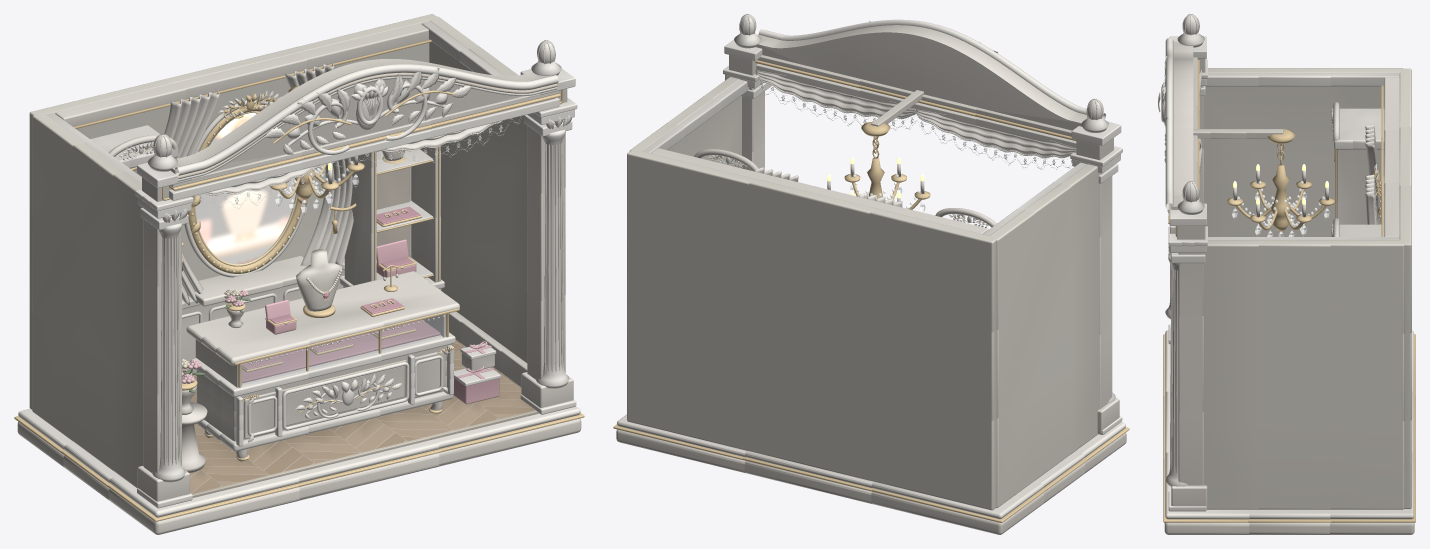
File: Boutique-web.glb
3 views of the same model, side by side, from view 1: azimuth 30°, elevation 25°; view 2: azimuth 150°, elevation 25°; view 3: azimuth 270°, elevation 25° (orthographic). The views are drawn at different scales.
Visible parts, largest first — view 1: Boutique_01, Boutique_06, Boutique_02, Boutique_04, Boutique_08, Boutique_03, Boutique_16, Boutique_10, Boutique_14, Boutique_07, Boutique_oak parquet 5, Boutique_oak parquet 6 (+8 smaller); view 2: Boutique_06, Boutique_01, Boutique_02, Boutique_08, Boutique_04, Boutique_09; view 3: Boutique_06, Boutique_01, Boutique_02, Boutique_04, Boutique_08, Boutique_15.
Part boxes in pixels (x1=…): Boutique_01: x1=17, y1=23, x2=581, y2=534; Boutique_06: x1=29, y1=14, x2=527, y2=487; Boutique_02: x1=18, y1=21, x2=580, y2=517; Boutique_04: x1=14, y1=39, x2=584, y2=521; Boutique_08: x1=164, y1=62, x2=498, y2=305; Boutique_03: x1=133, y1=73, x2=557, y2=497; Boutique_16: x1=195, y1=112, x2=295, y2=264; Boutique_10: x1=242, y1=206, x2=440, y2=383; Boutique_14: x1=242, y1=315, x2=443, y2=385; Boutique_07: x1=265, y1=239, x2=499, y2=404; Boutique_oak parquet 5: x1=190, y1=383, x2=521, y2=493; Boutique_oak parquet 6: x1=189, y1=347, x2=512, y2=476; Boutique_06: x1=627, y1=77, x2=1099, y2=510; Boutique_01: x1=616, y1=14, x2=1126, y2=534; Boutique_02: x1=617, y1=14, x2=1125, y2=519; Boutique_08: x1=755, y1=70, x2=1076, y2=207; Boutique_04: x1=613, y1=60, x2=1129, y2=522; Boutique_09: x1=759, y1=78, x2=1072, y2=197; Boutique_06: x1=1203, y1=68, x2=1411, y2=509; Boutique_01: x1=1164, y1=14, x2=1414, y2=534; Boutique_02: x1=1158, y1=14, x2=1413, y2=519; Boutique_04: x1=1163, y1=60, x2=1415, y2=522; Boutique_08: x1=1199, y1=69, x2=1378, y2=224; Boutique_15: x1=1232, y1=181, x2=1330, y2=236.
Size of the model in its own units: 6.16 by 5.68 by 3.58.
27 materials, 6 textured.
